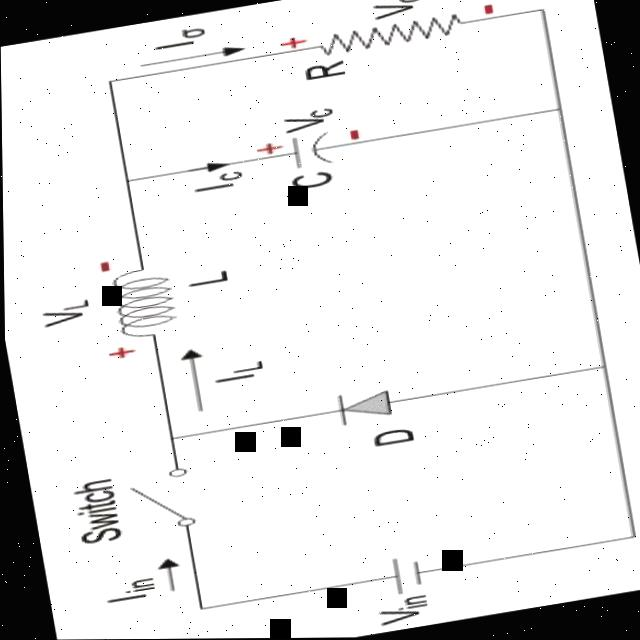capacitor: (255, 122, 353, 185)
diode: (318, 377, 411, 434)
inductor: (84, 260, 196, 351)
resistor: (295, 4, 479, 67)
source: (357, 547, 442, 603)
switch: (122, 459, 211, 539)
